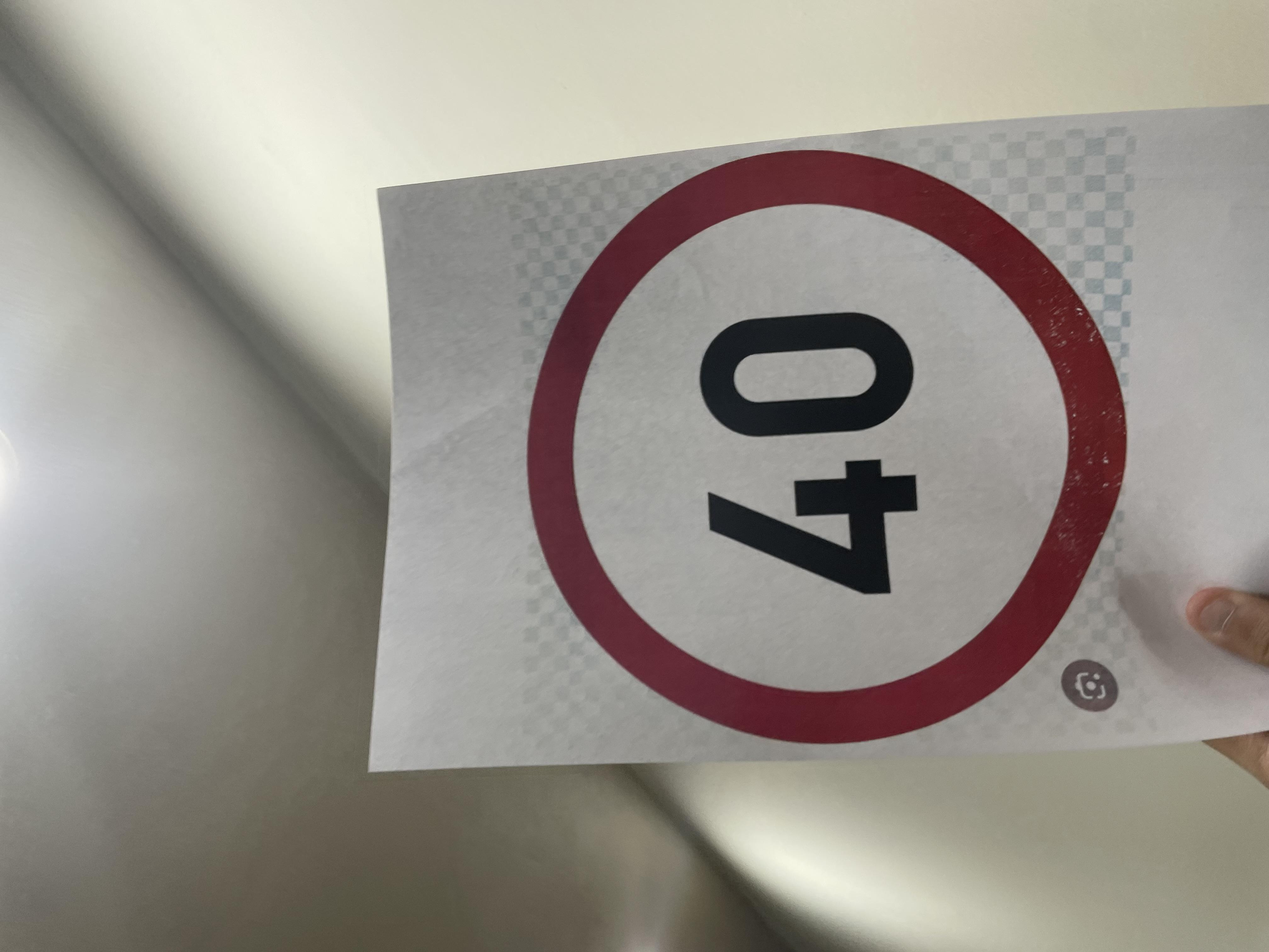40-Speed: (265, 383, 1080, 846)
